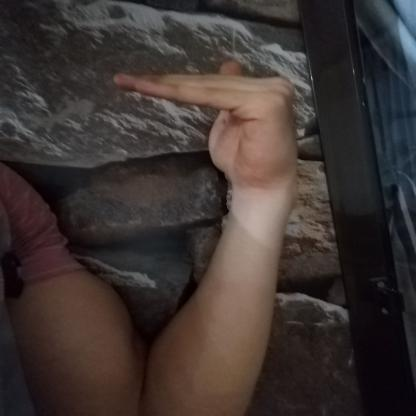KHAA: (91, 46, 326, 200)
